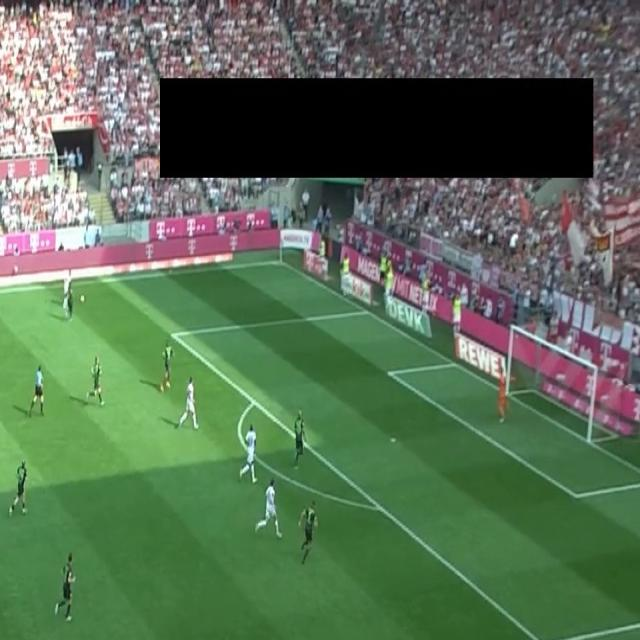ball: (80, 294, 86, 304)
